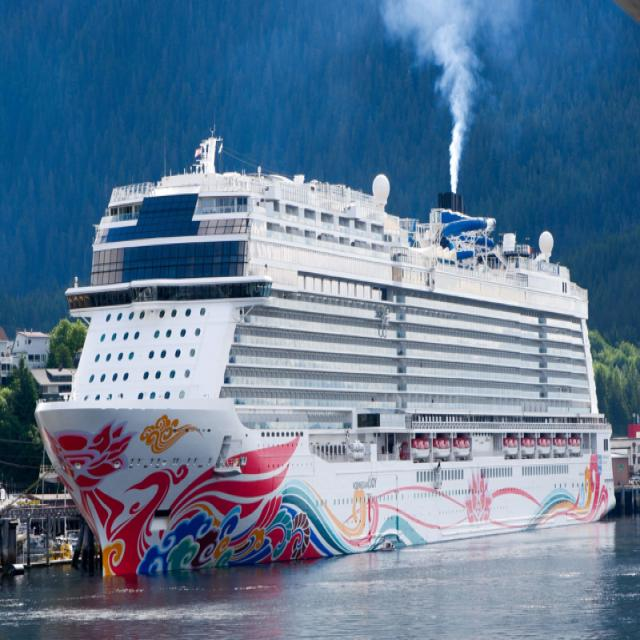cruises: (33, 133, 620, 590)
